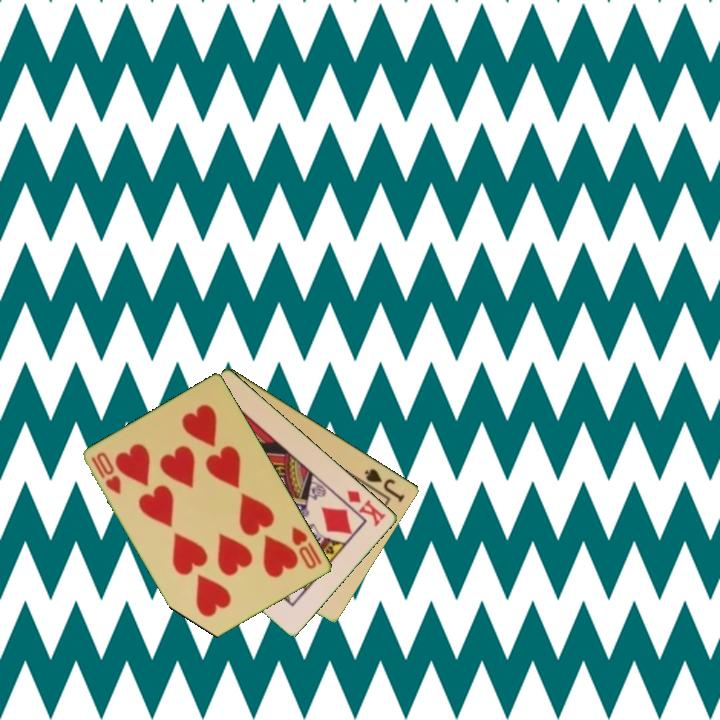10h: (88, 448, 125, 498), (288, 523, 325, 572)
Js: (361, 465, 408, 505)
Kd: (343, 486, 389, 529)
